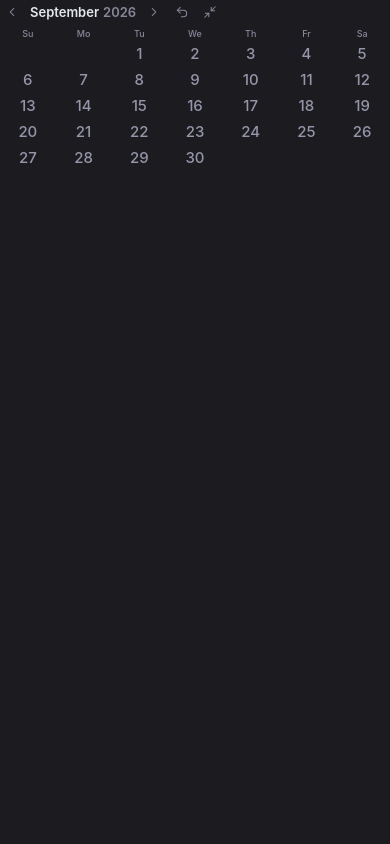
CalendarGrid month/year picker (TEST-011) › opens a month/year picker when the "Month Year" label is clicked
Step 1. Click the button "September 2026" → (83, 12), box [24, 3, 142, 21]
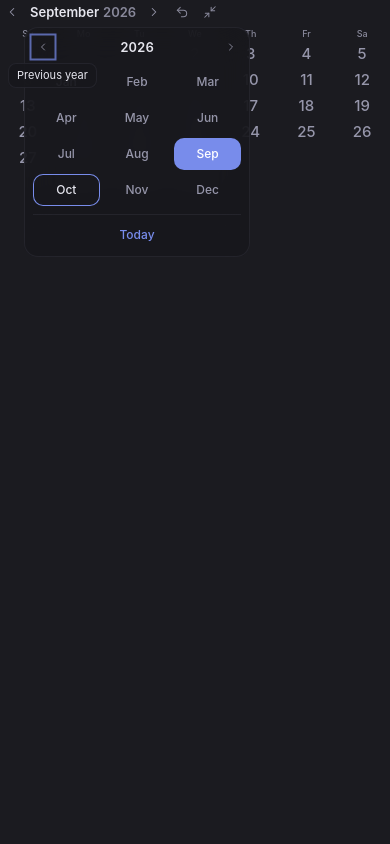
Expected: the table named "Month" is shown, [33, 66, 241, 206]
